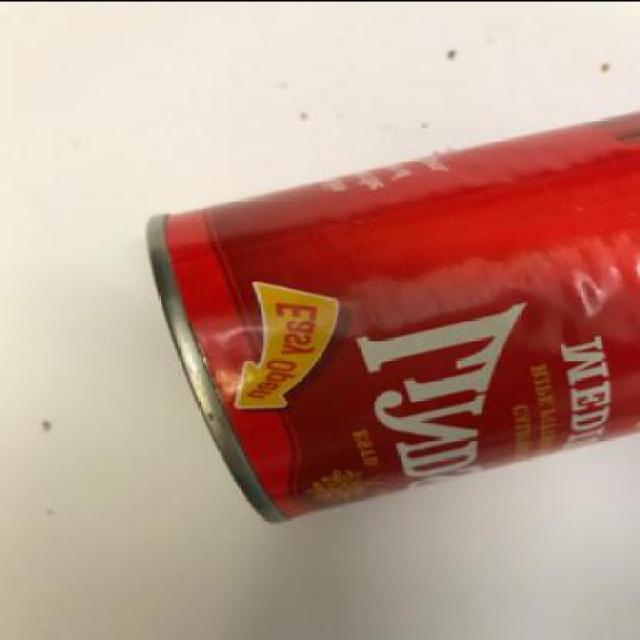METAL: (145, 107, 638, 522)
